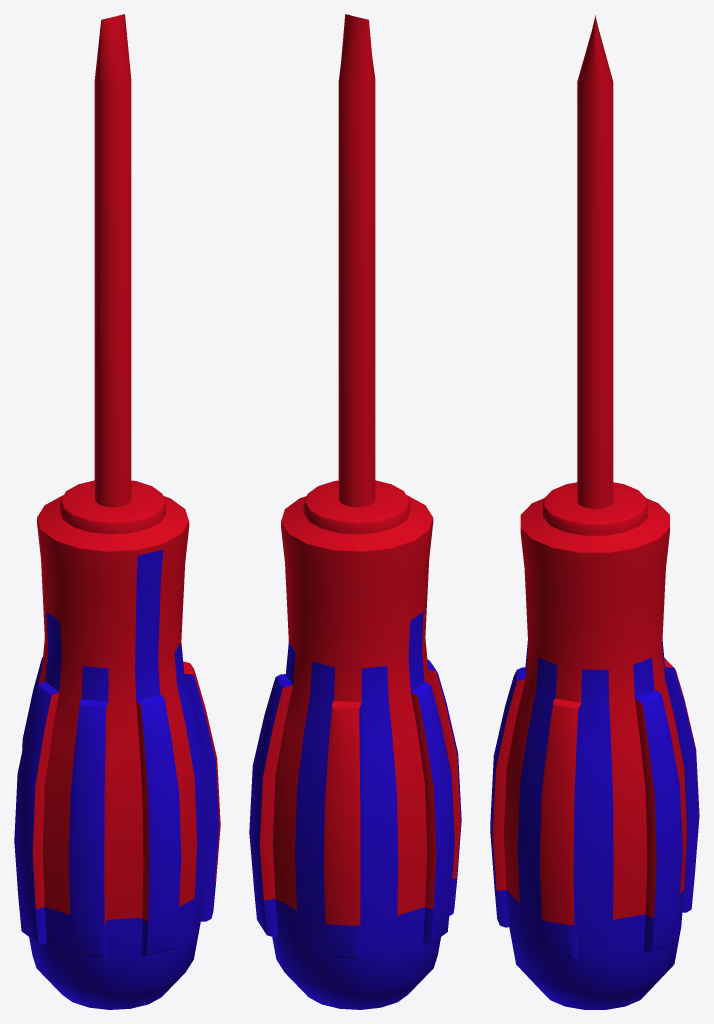
Rendered from Screwdriver 3.fbx.
3 views of the same model, side by side, from view 1: azimuth 30°, elevation 25°; view 2: azimuth 150°, elevation 25°; view 3: azimuth 270°, elevation 25° (orthographic).
Visible parts, largest first — view 1: Cylinder; view 2: Cylinder; view 3: Cylinder.
Part boxes in pixels (<box>): Cylinder: <box>14,14,220,1009</box>; Cylinder: <box>249,14,461,1009</box>; Cylinder: <box>490,15,699,1009</box>.
Bounding box in the file's own units: 26.37 × 136 × 26.37.
